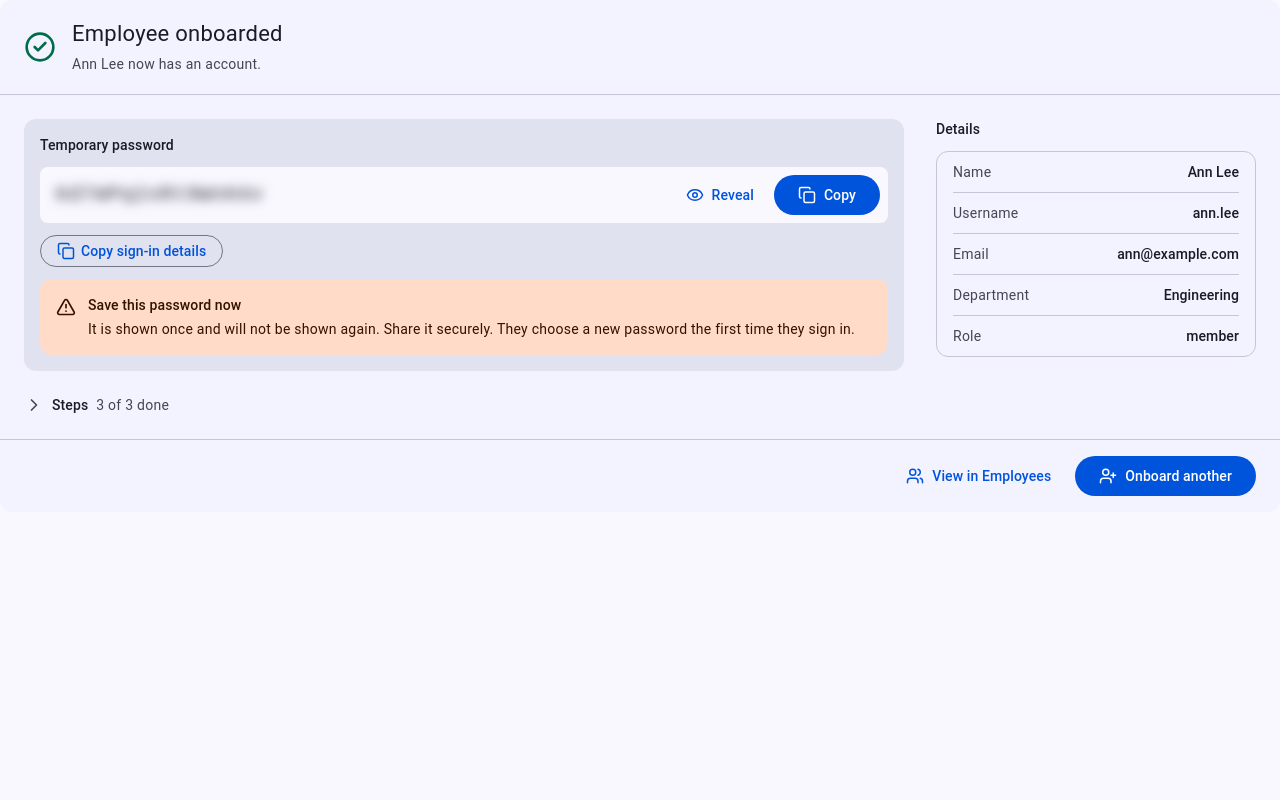
Scenario: OnboardResultView: the one-time password › copies the username and password together for handing over
What coordinates should you click on to do the following:
click the button "Copy sign-in details"
I would click on:
 (132, 251)
Its box is [40,235,223,267].
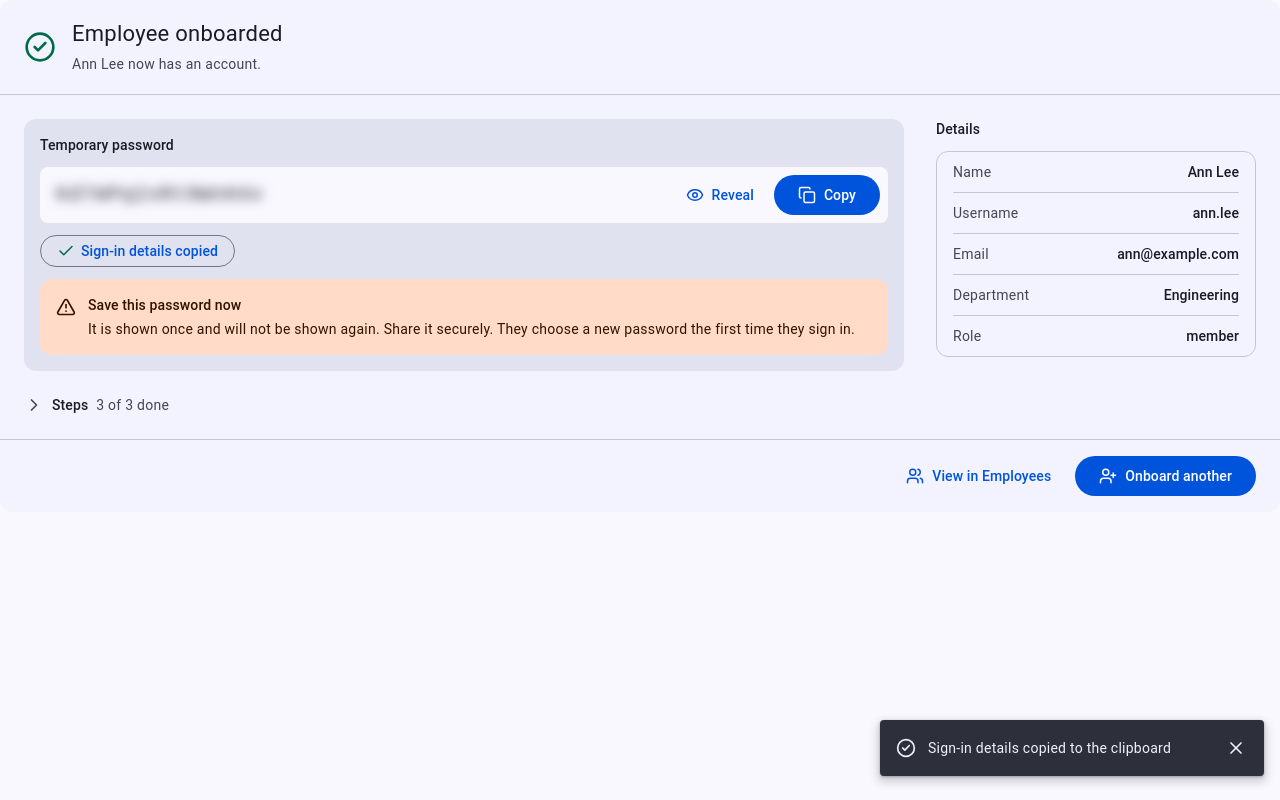
Expected: the button "Copy" is shown, [774,175,880,215]
Expected: the button "Sign-in details copied" is shown, [40,235,235,267]
